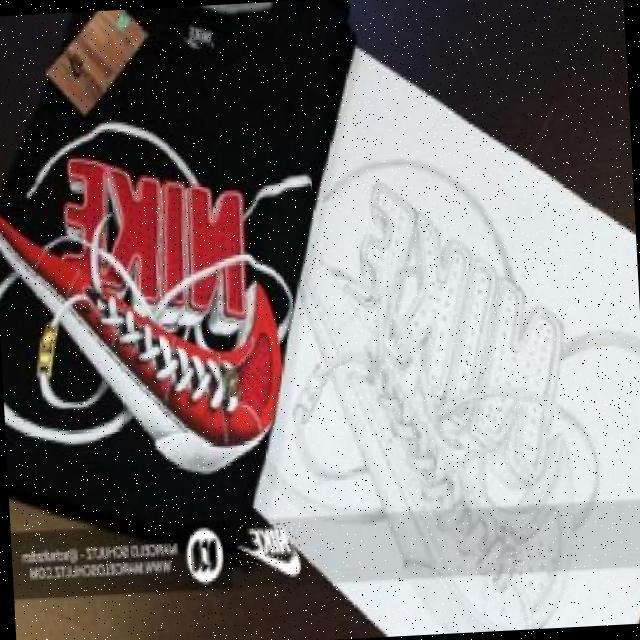Nike: (236, 518, 304, 575)
